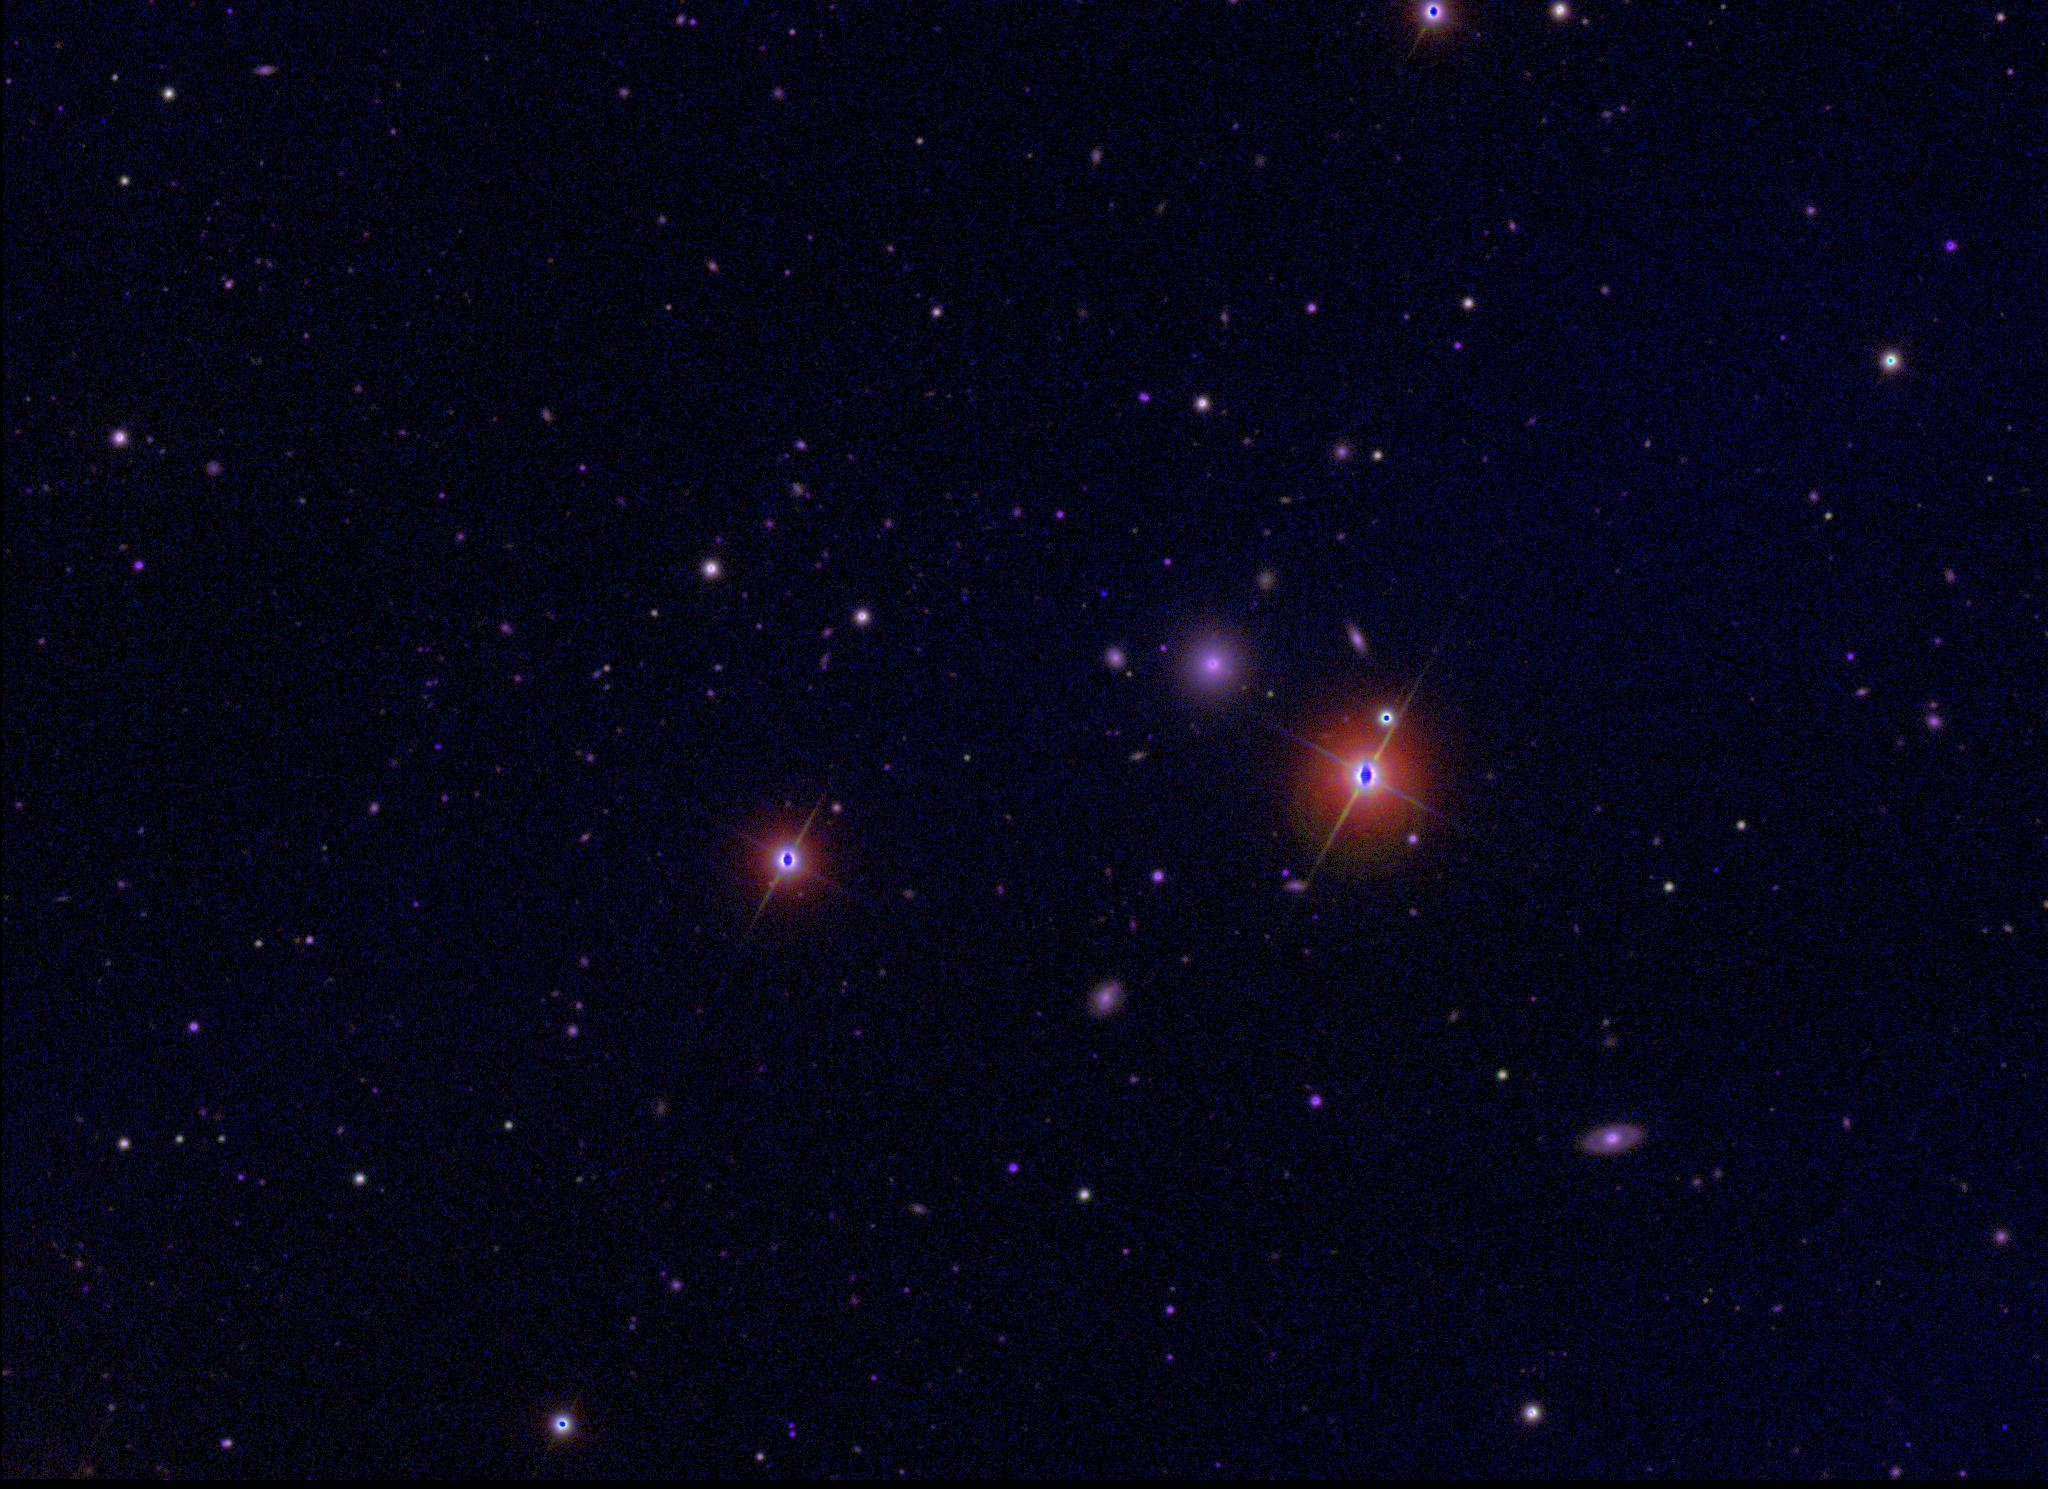L: (1097, 587, 1111, 601)
